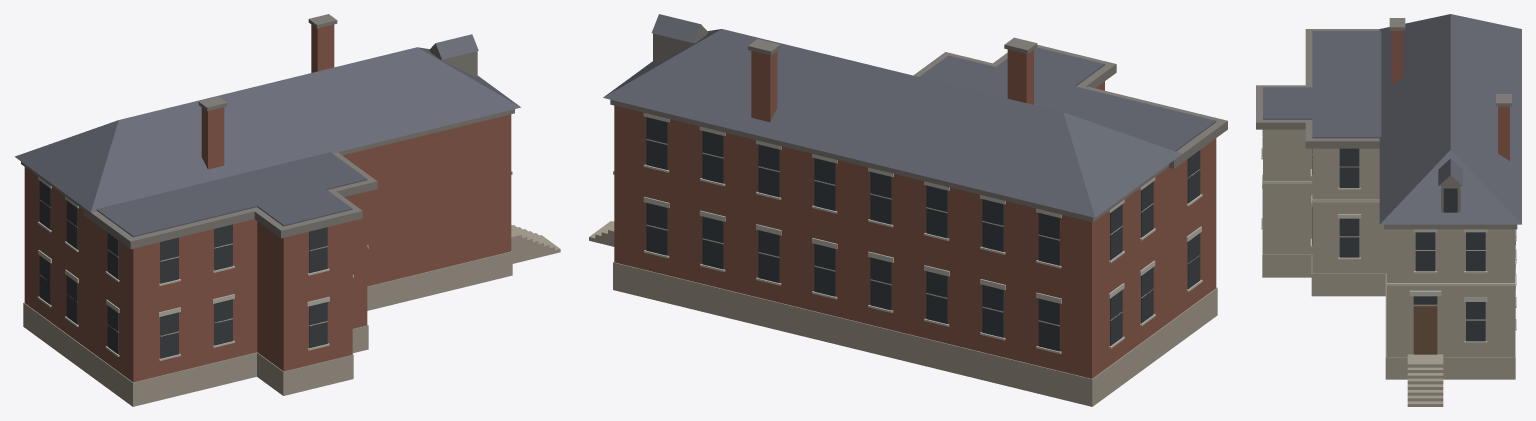
The model's file is marsh_house_1824_prairie__draft_1904.glb.
3 renders of one model, left to right at view 1: azimuth 30°, elevation 25°; view 2: azimuth 150°, elevation 25°; view 3: azimuth 270°, elevation 25°, orthographic. The views are drawn at different scales.
Visible parts, largest first — view 1: marsh_house_1824_prairie__draft_1904; view 2: marsh_house_1824_prairie__draft_1904; view 3: marsh_house_1824_prairie__draft_1904.
Boxes of the visible parts, left/top/right/bottom form: marsh_house_1824_prairie__draft_1904: left=15, top=14, right=560, bottom=406; marsh_house_1824_prairie__draft_1904: left=589, top=14, right=1227, bottom=406; marsh_house_1824_prairie__draft_1904: left=1256, top=14, right=1521, bottom=406.
Bounding box in the file's own units: 26.4 × 12.5 × 13.45.
